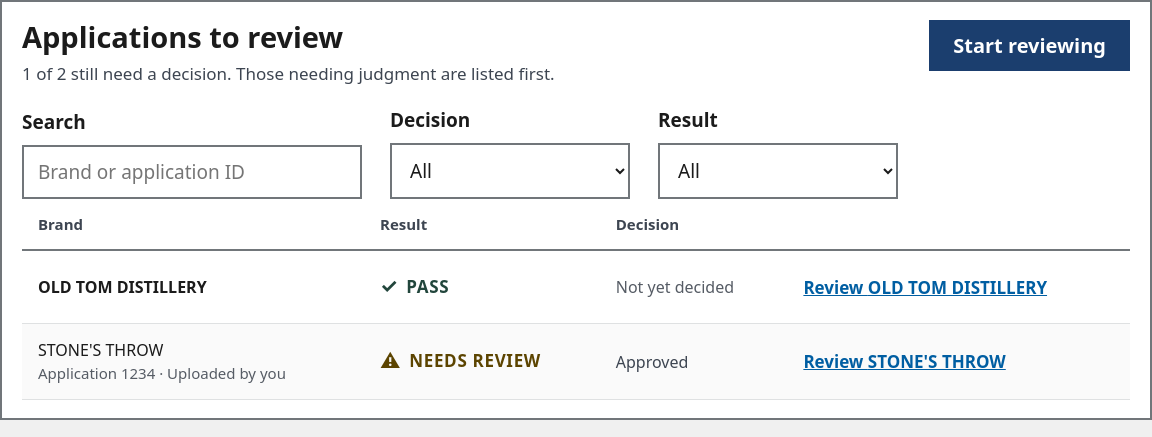
The queue is searchable and filterable › filters rows as the agent types, and says so when nothing matches
Expected: the column heading "OLD TOM DISTILLERY" is shown, [22,251,364,324]
Type "stone" into the search field labelled "Search".
click(192, 172); type("stone")  # box [22,145,362,199]
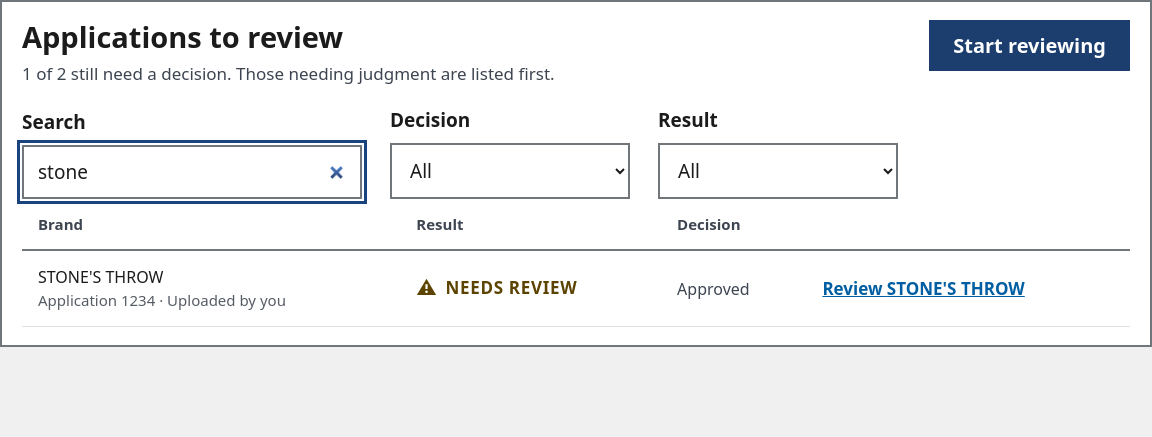
Expected: the column heading "STONE'S THROW" is shown, [38,266,163,288]
Expected: the column heading "OLD TOM DISTILLERY" is gone
Replace the text in the search field labelled "Search" with "zzz" at (192, 172), box [22,145,362,199]
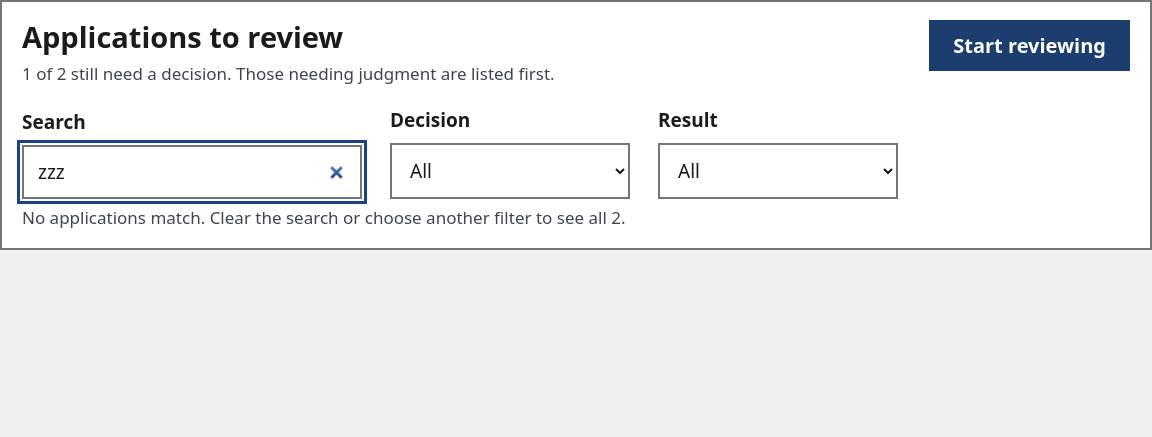
Expected: the message shows "No applications match", [22,206,611,229]
